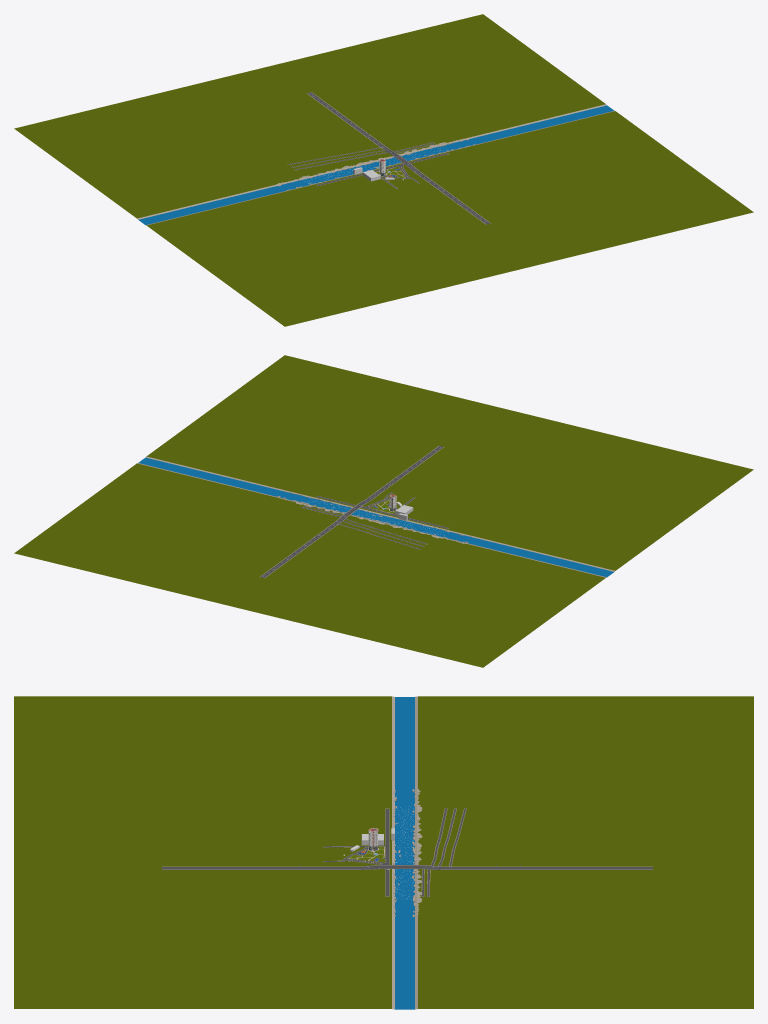
Rendered from shahrofar.glb.
3 renders of one model, top to bottom at view 1: azimuth 30°, elevation 25°; view 2: azimuth 150°, elevation 25°; view 3: azimuth 270°, elevation 25°, orthographic. The views are drawn at different scales.
Parts seen in each view (by area): view 1: Site ground, Avenue and bridge; view 2: Site ground, Avenue and bridge; view 3: Site ground, Avenue and bridge.
Part boxes in pixels (bbox=[...]): Site ground: bbox=[14, 14, 753, 326]; Avenue and bridge: bbox=[307, 92, 490, 224]; Site ground: bbox=[14, 355, 753, 667]; Avenue and bridge: bbox=[260, 445, 443, 578]; Site ground: bbox=[14, 696, 753, 1009]; Avenue and bridge: bbox=[162, 863, 652, 869].
Size of the model in its own units: 3000 by 92.19 by 3000.
